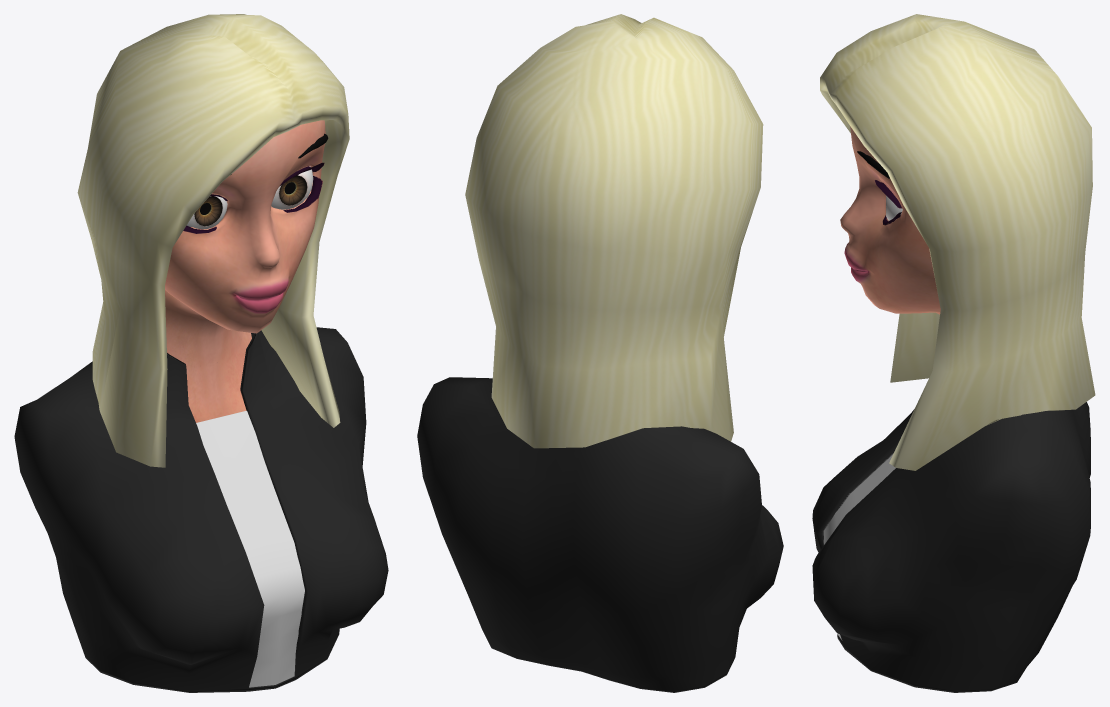
Rendered from female1.glb.
3 renders of one model, left to right at view 1: azimuth 30°, elevation 25°; view 2: azimuth 150°, elevation 25°; view 3: azimuth 270°, elevation 25°, orthographic. The views are drawn at different scales.
Visible parts, largest first — view 1: entrepreneur_female; view 2: entrepreneur_female; view 3: entrepreneur_female.
Boxes of the visible parts, left/top/right/bottom form: entrepreneur_female: left=14, top=14, right=388, bottom=692; entrepreneur_female: left=417, top=14, right=783, bottom=692; entrepreneur_female: left=812, top=14, right=1095, bottom=692.
Bounding box in the file's own units: 0.2949 × 0.5495 × 0.2293.
1 material, 1 textured.
